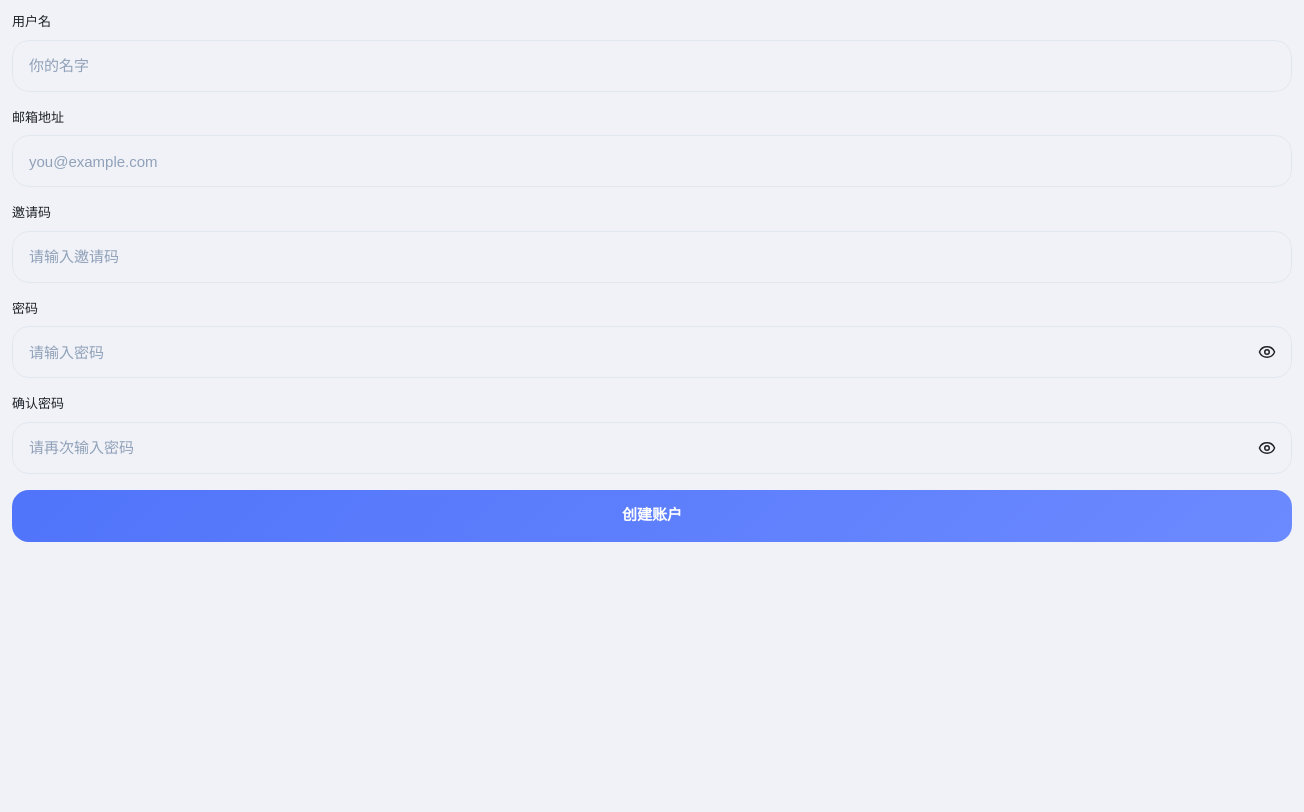
Test case: auth components › RegisterForm › shows email validation error for invalid email
The width and height of the screenshot is (1304, 812).
In the field with placeholder "你的名字": (652, 66) [12,40,1292,92], type "User"
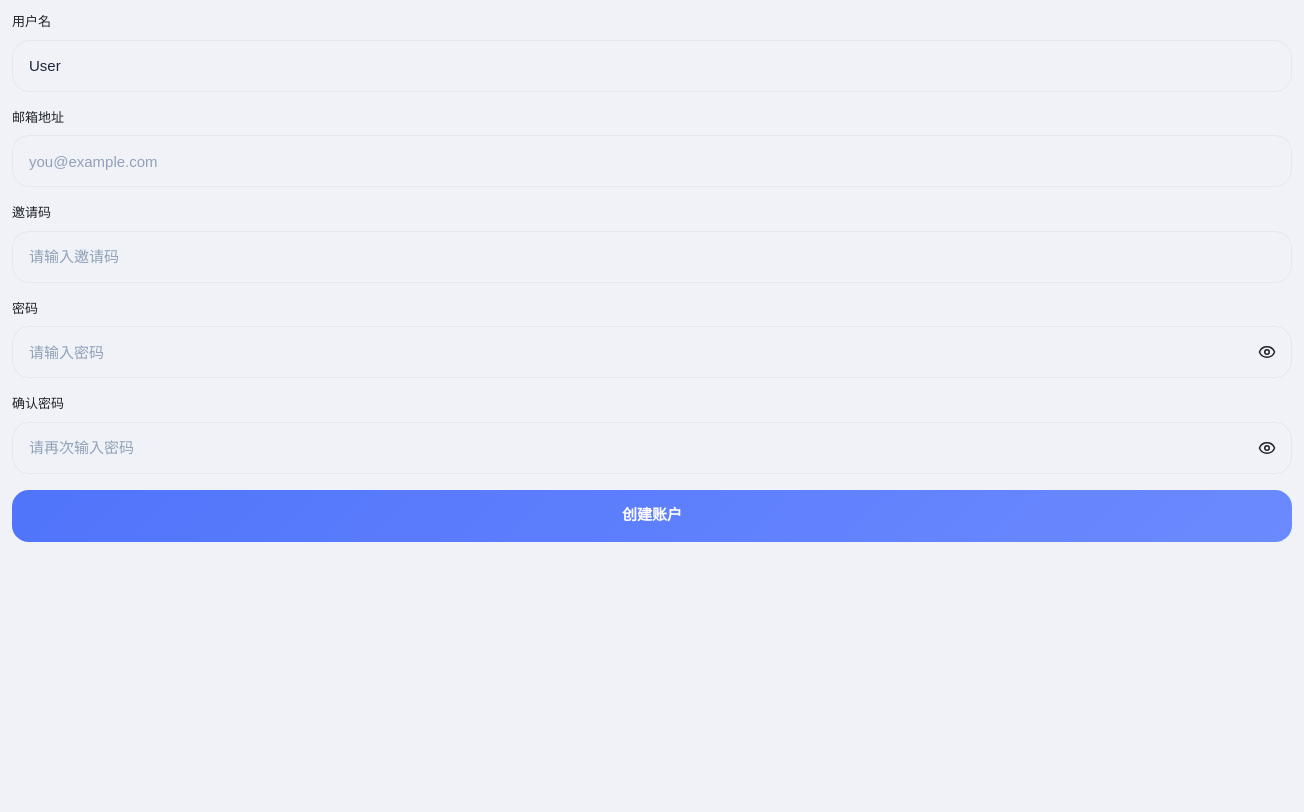
In the field with placeholder "you@example.com": (652, 161) [12,135,1292,187], type "invalid"
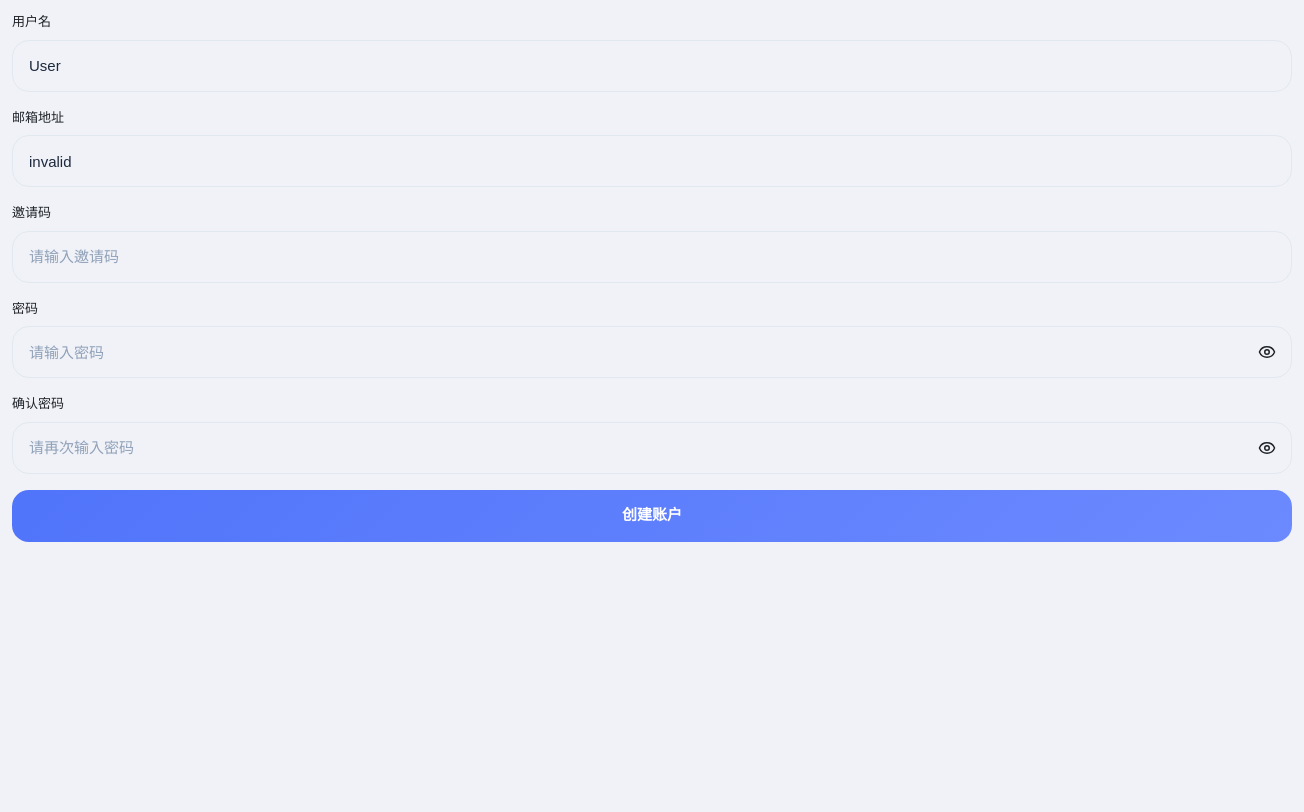
In the password field with placeholder "请输入密码": (652, 352) [12,326,1292,378], type "password123"
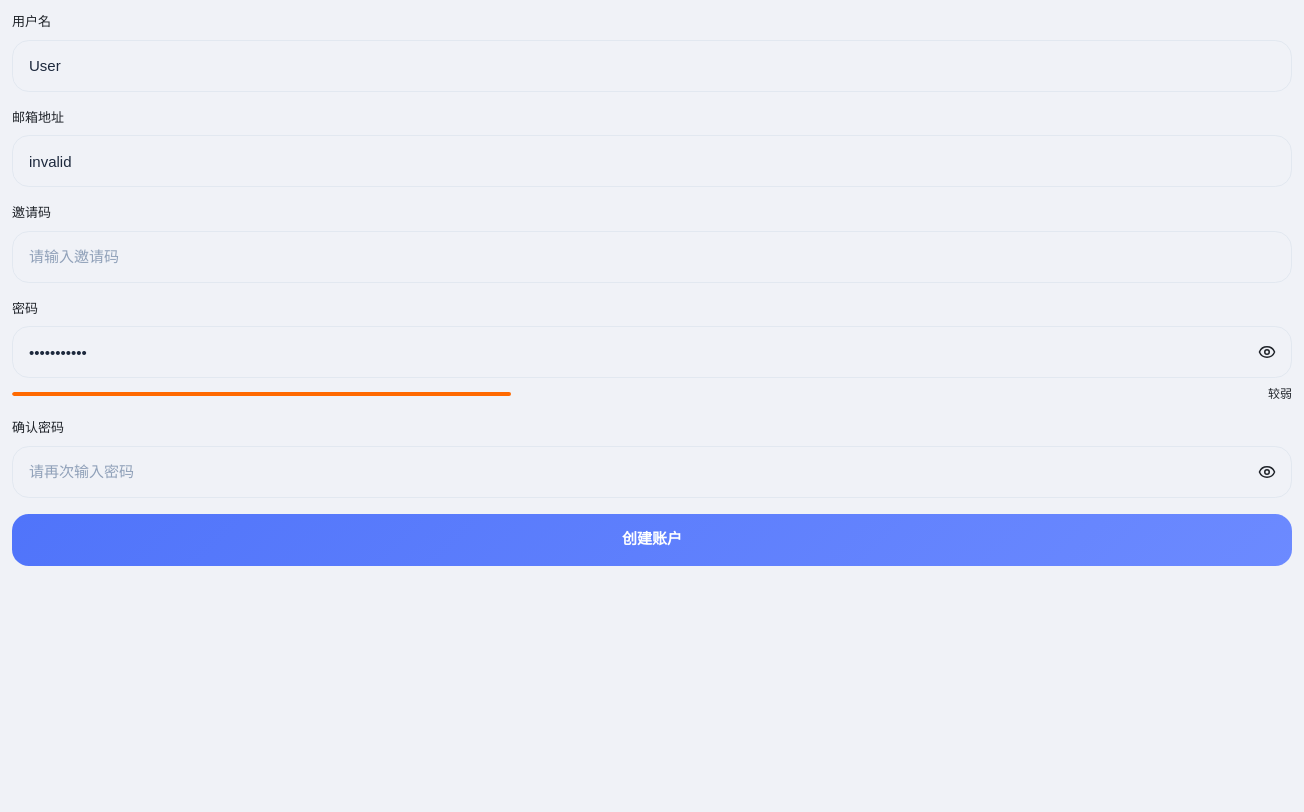
In the password field with placeholder "请再次输入密码": (652, 472) [12,446,1292,498], type "password123"
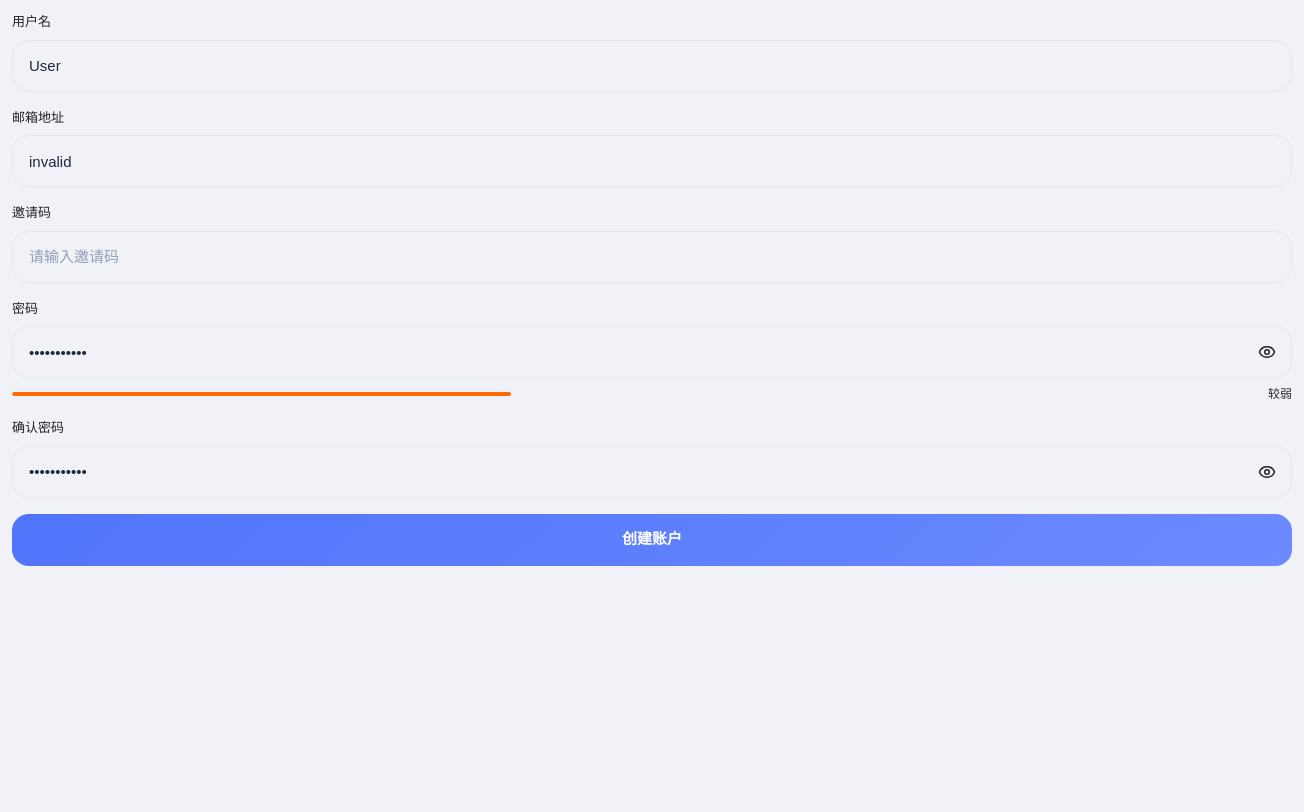
Submit the form with placeholder "you@example.com"
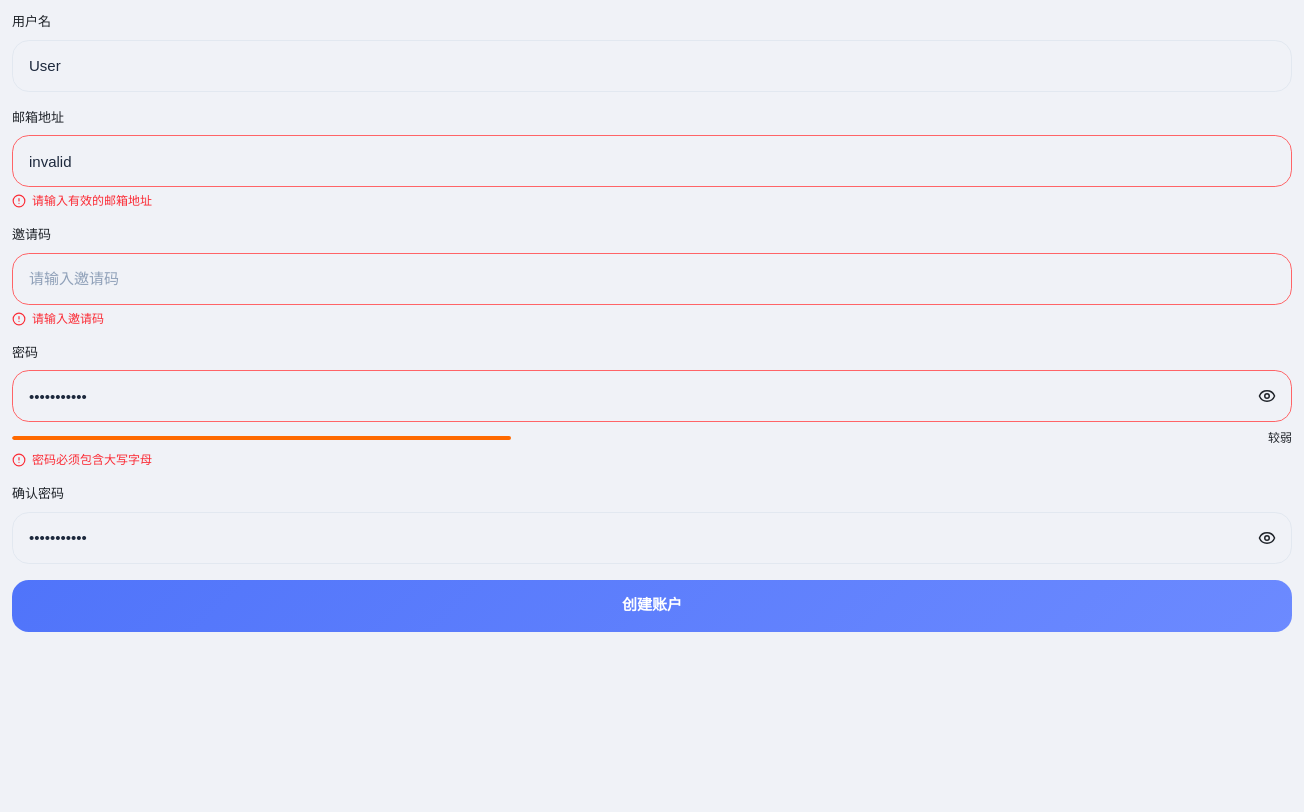
Result: the text "请输入有效的邮箱地址" is shown at [12,194,152,208]
